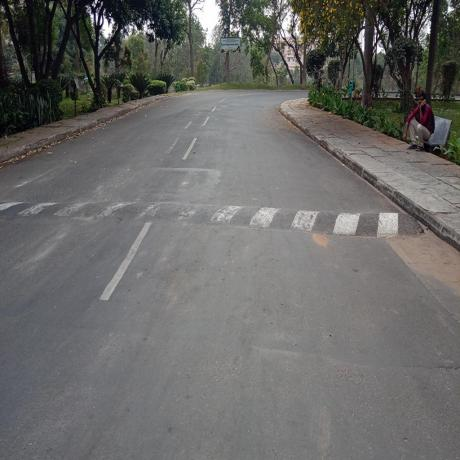Speed Bump: (0, 200, 424, 240)
